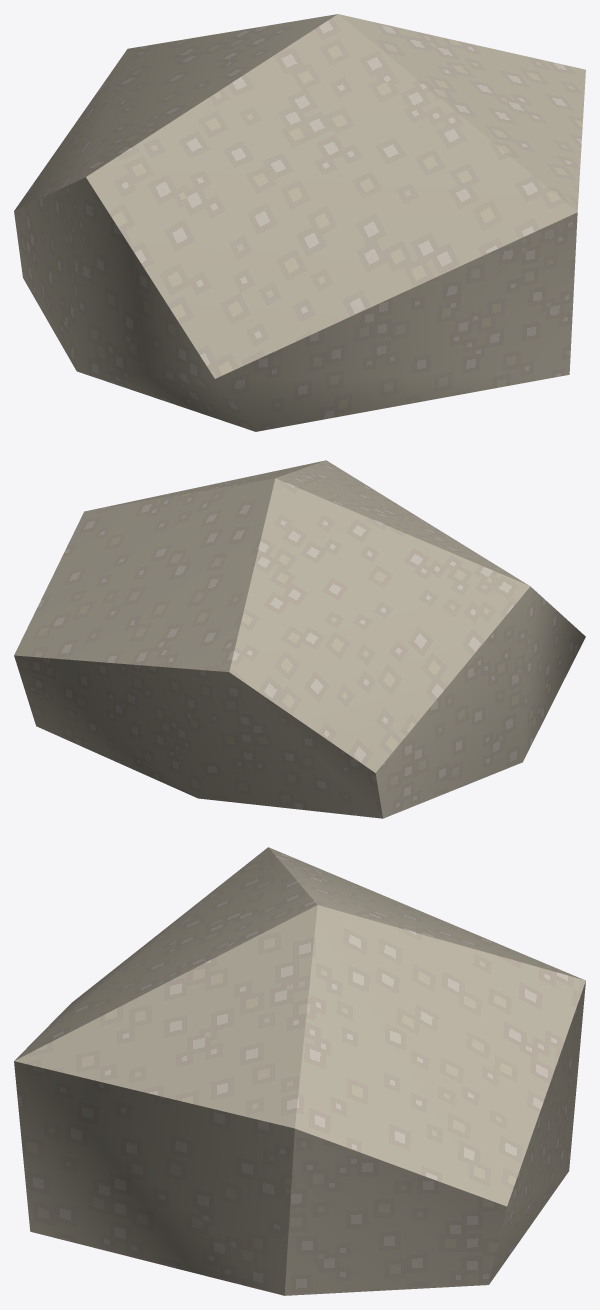
Rendered from 03a9_Rock.glb.
The picture shows the model from 3 angles, top to bottom: view 1: azimuth 30°, elevation 25°; view 2: azimuth 150°, elevation 25°; view 3: azimuth 270°, elevation 25°; orthographic projection. The views are drawn at different scales.
Visible parts, largest first — view 1: part_0; view 2: part_0; view 3: part_0.
Part boxes in pixels (x1=…): part_0: x1=14, y1=14, x2=585, y2=431; part_0: x1=14, y1=460, x2=585, y2=818; part_0: x1=14, y1=847, x2=585, y2=1295.
Bounding box in the file's own units: 0.1086 × 0.0564 × 0.1035.
Materials: 1 (1 with a texture image).
